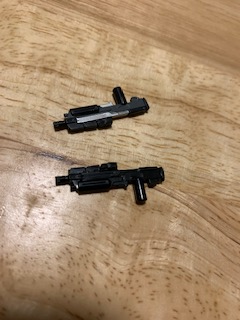rifle: (51, 158, 165, 211), (51, 85, 151, 138)
